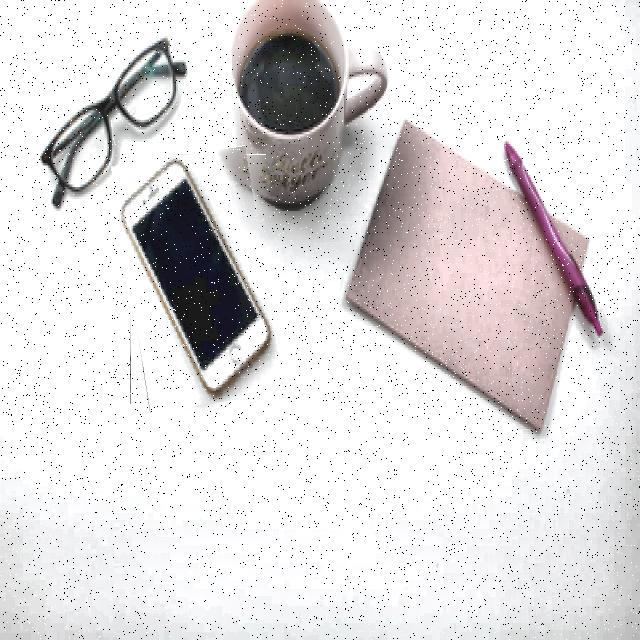Phone: (121, 150, 275, 408)
